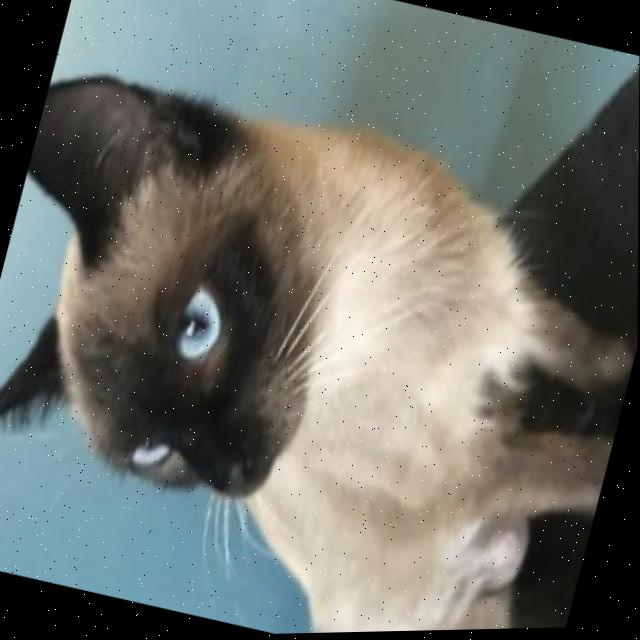Siamese: (0, 40, 640, 640)
